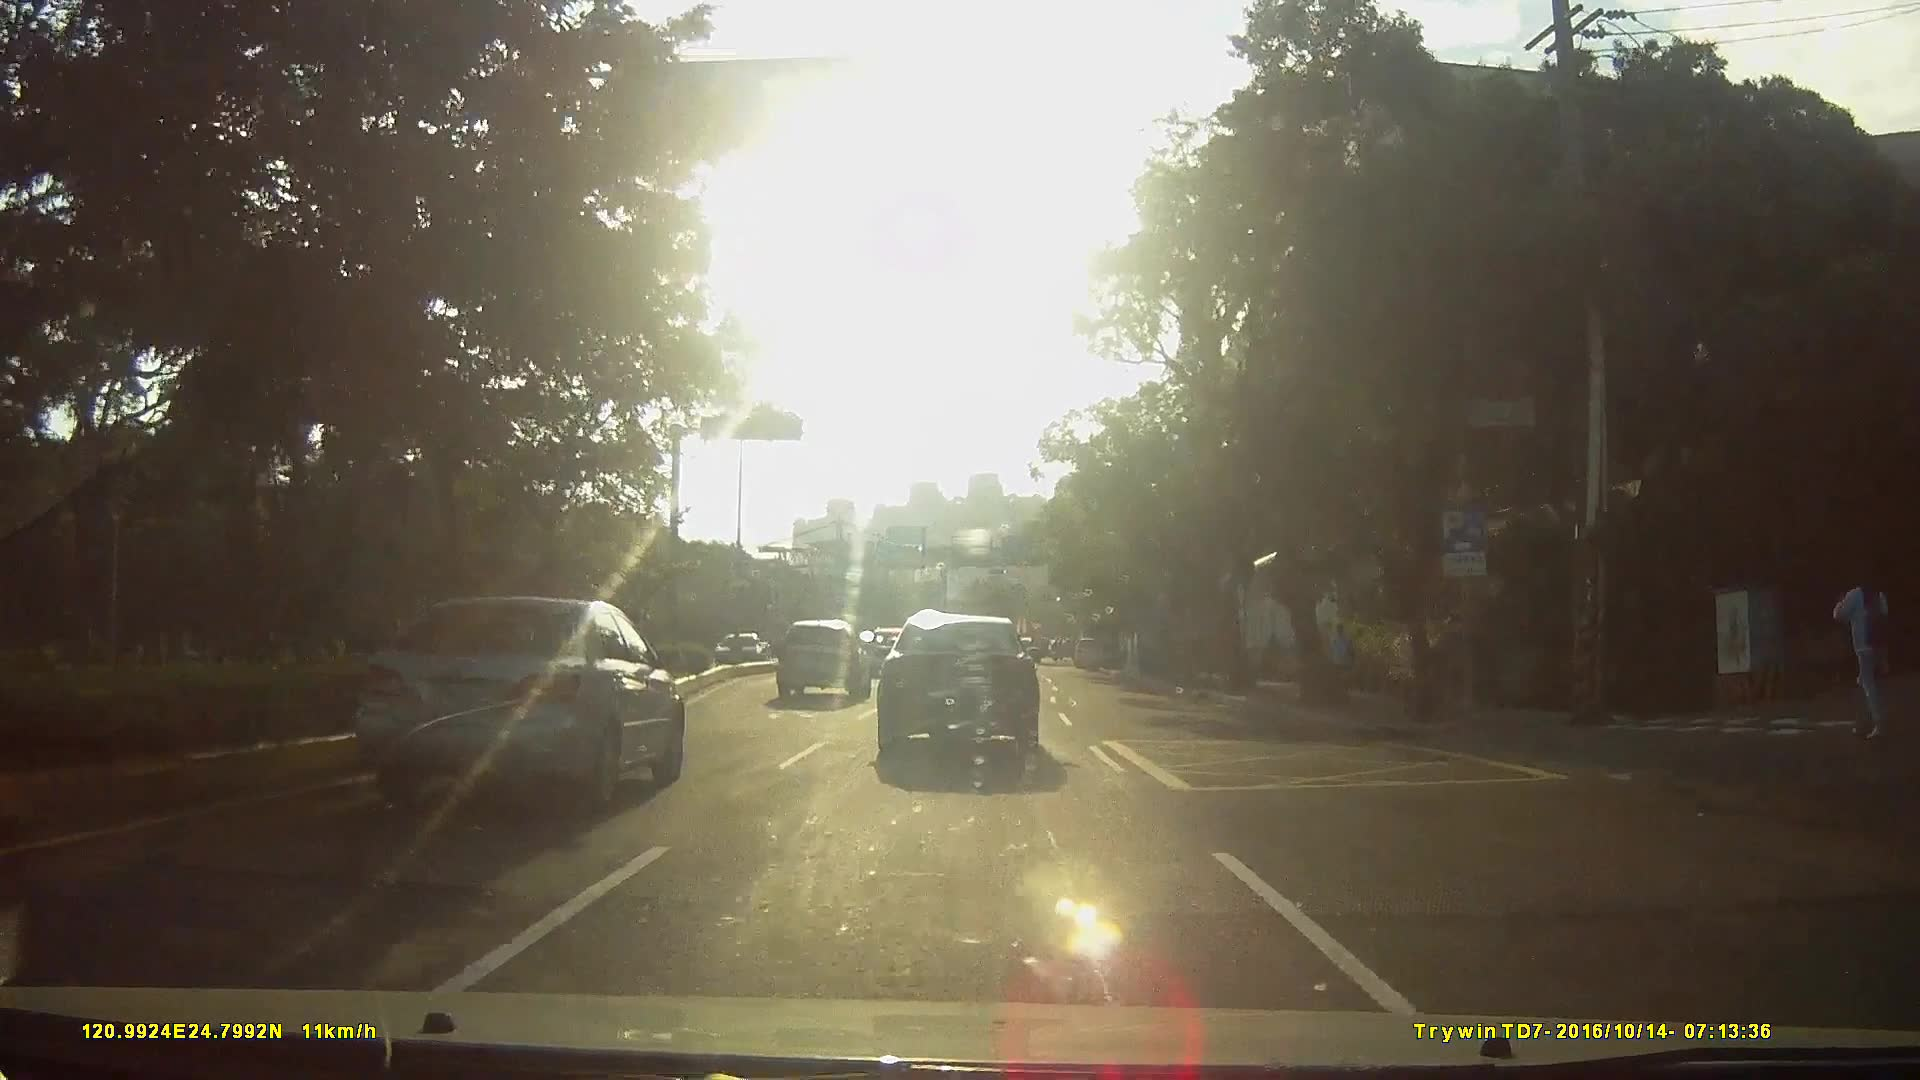pedestrian: (1833, 565, 1895, 742)
vehicle: (352, 595, 683, 809), (869, 620, 1054, 773), (771, 620, 870, 704), (699, 632, 749, 671), (1068, 637, 1105, 672)
